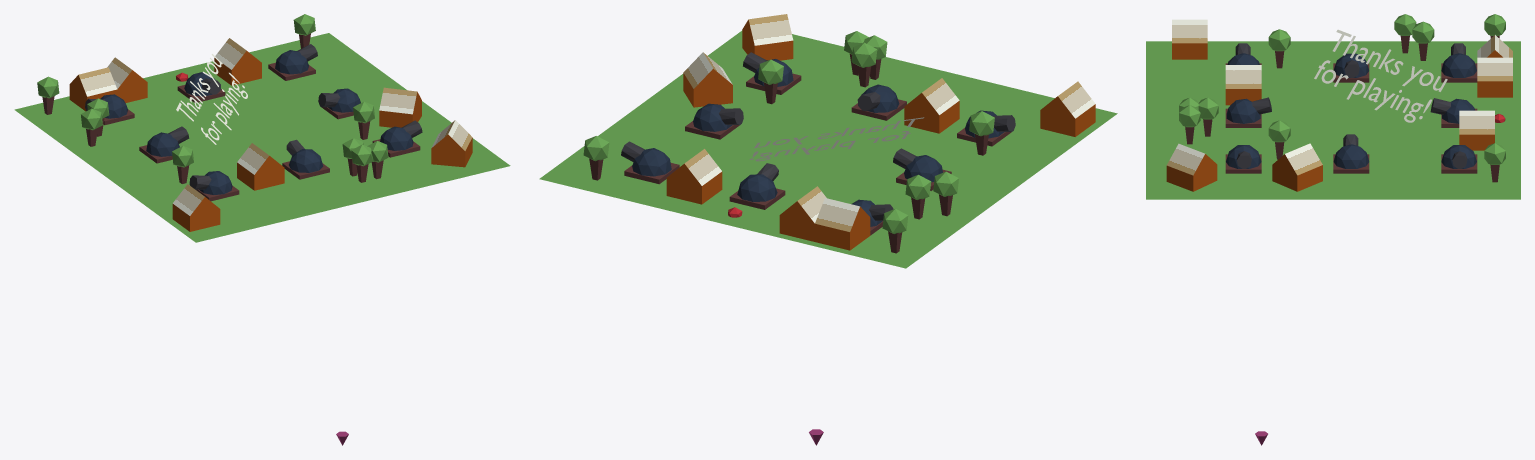
Rendered from end.gltf.
The picture shows the model from 3 angles, left to right: view 1: azimuth 30°, elevation 25°; view 2: azimuth 150°, elevation 25°; view 3: azimuth 270°, elevation 25°; orthographic projection. The views are drawn at different scales.
Parts seen in each view (by area): view 1: Plane, Cube.002, Cube.006, Cube, Cube.003, Cube.004, Cube.001, Text, canon.004, canon.003, Cube.005, canon.001 (+12 smaller); view 2: Plane, Cube.001, Cube, Cube.002, Cube.006, Cube.004, Cube.003, Cube.005, canon.004, canonaa, canon.006, canon.003 (+12 smaller); view 3: Plane, Text, Cube.004, Cube.003, Cube.002, Cube.005, Cube, Cube.006, canon.003, canon.006, canon.005, canon.001 (+13 smaller).
Boxes of the visible parts, x1=… form: Plane: x1=14, y1=33, x2=510, y2=242; Cube.002: x1=172, y1=184, x2=220, y2=231; Cube.006: x1=237, y1=143, x2=284, y2=190; Cube: x1=214, y1=38, x2=261, y2=85; Cube.003: x1=379, y1=87, x2=421, y2=127; Cube.004: x1=431, y1=120, x2=472, y2=167; Cube.001: x1=69, y1=67, x2=117, y2=111; Text: x1=176, y1=54, x2=247, y2=144; canon.004: x1=268, y1=44, x2=317, y2=80; canon.003: x1=282, y1=139, x2=329, y2=179; Cube.005: x1=107, y1=57, x2=147, y2=102; canon.001: x1=372, y1=120, x2=422, y2=157; Plane: x1=539, y1=30, x2=1117, y2=268; Cube.001: x1=815, y1=198, x2=870, y2=250; Cube: x1=666, y1=149, x2=722, y2=204; Cube.002: x1=1040, y1=81, x2=1095, y2=136; Cube.006: x1=904, y1=78, x2=959, y2=133; Cube.004: x1=742, y1=14, x2=793, y2=60; Cube.003: x1=683, y1=52, x2=732, y2=107; Cube.005: x1=779, y1=186, x2=826, y2=241; canon.004: x1=621, y1=141, x2=679, y2=184; canonaa: x1=729, y1=163, x2=785, y2=209; canon.006: x1=685, y1=103, x2=743, y2=139; canon.003: x1=851, y1=84, x2=906, y2=120; Plane: x1=1146, y1=41, x2=1520, y2=199; Text: x1=1314, y1=29, x2=1447, y2=122; Cube.004: x1=1166, y1=143, x2=1217, y2=191; Cube.003: x1=1272, y1=143, x2=1322, y2=191; Cube.002: x1=1172, y1=19, x2=1207, y2=59; Cube.005: x1=1477, y1=57, x2=1512, y2=97; Cube: x1=1459, y1=110, x2=1494, y2=150; Cube.006: x1=1225, y1=65, x2=1261, y2=105; canon.003: x1=1225, y1=97, x2=1271, y2=127; canon.006: x1=1333, y1=134, x2=1369, y2=173; canon.005: x1=1441, y1=43, x2=1477, y2=82; canon.001: x1=1225, y1=145, x2=1261, y2=173.
Size of the model in its own units: 20.87 by 21.58 by 20.87.
Materials: 1 (1 with a texture image).
